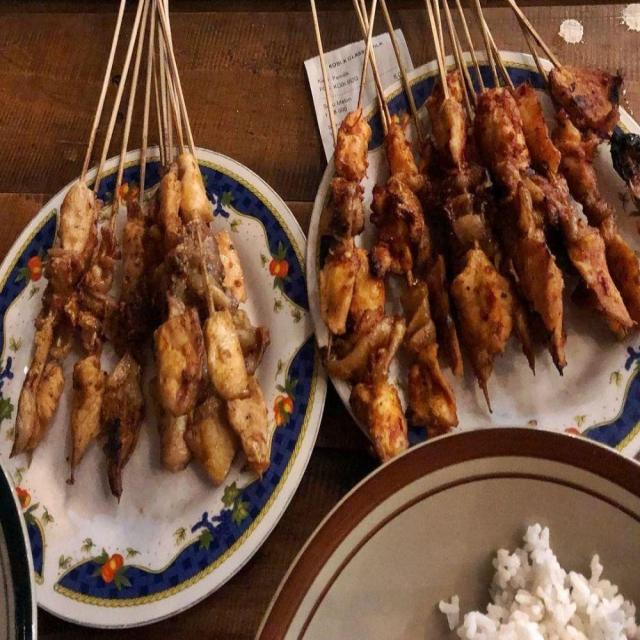Sate: (306, 9, 640, 441), (14, 8, 257, 510)
